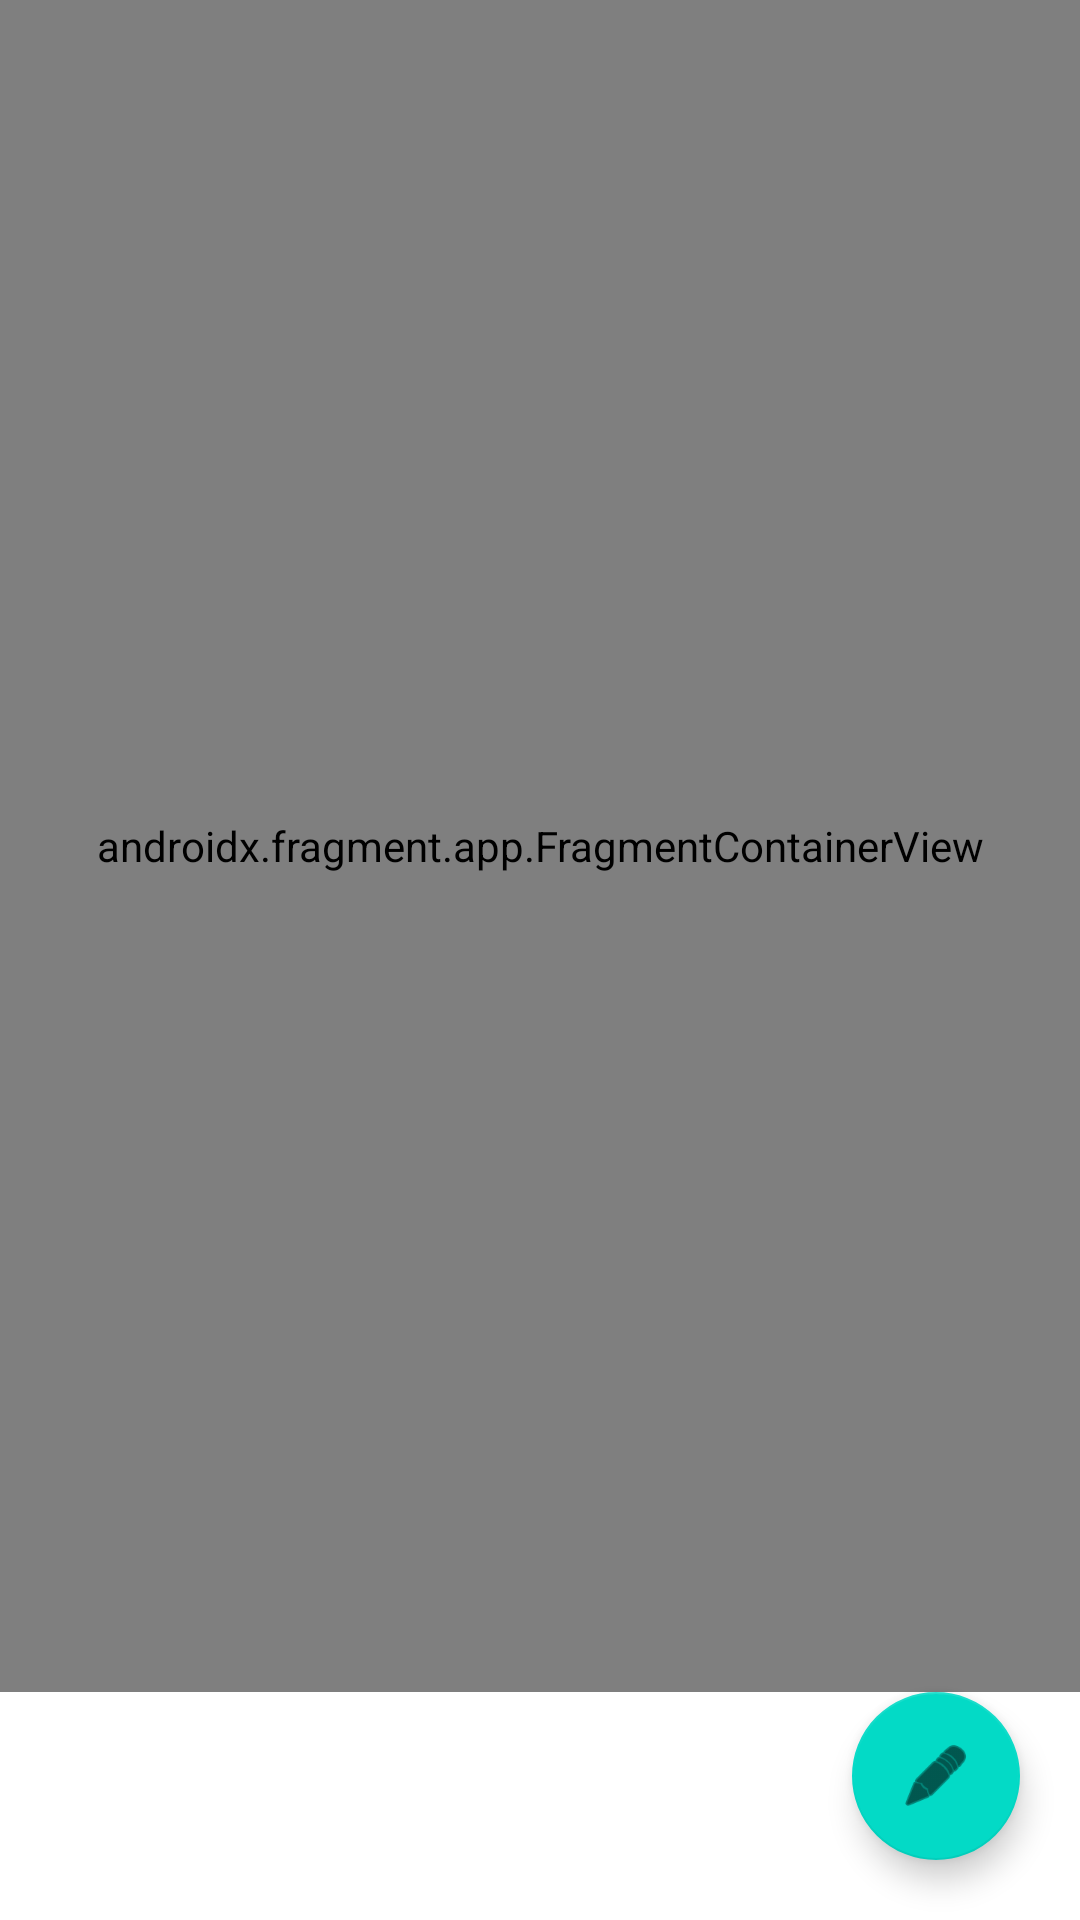

Icon click points for this 1080x1920 phone screenshot, format (x,y):
edit: (936,1776)
